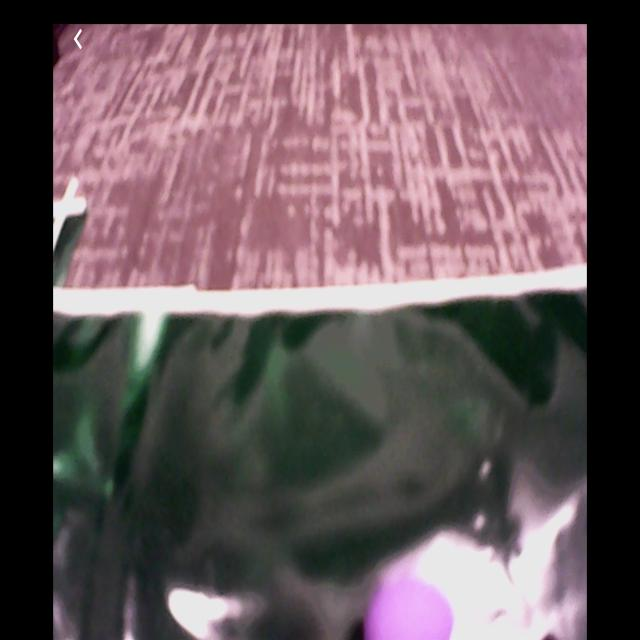ball: (363, 573, 456, 640)
